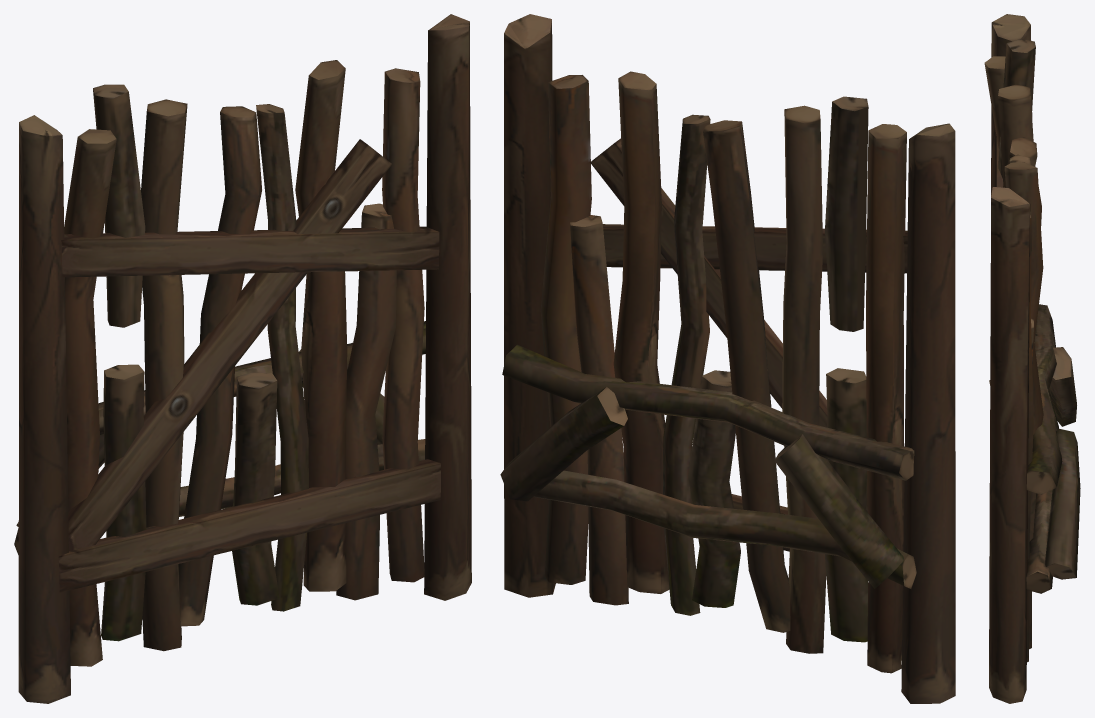
Rendered from mf_wall013.FBX.
3 views of the same model, side by side, from view 1: azimuth 30°, elevation 25°; view 2: azimuth 150°, elevation 25°; view 3: azimuth 270°, elevation 25° (orthographic). The views are drawn at different scales.
Parts seen in each view (by area): view 1: mf_wall01_03; view 2: mf_wall01_03; view 3: mf_wall01_03.
Part boxes in pixels (x1,y1,x2,y2): mf_wall01_03: (14,14,471,703); mf_wall01_03: (500,14,955,703); mf_wall01_03: (984,14,1080,703).
Size of the model in its own units: 2 by 2.47 by 0.4195.
